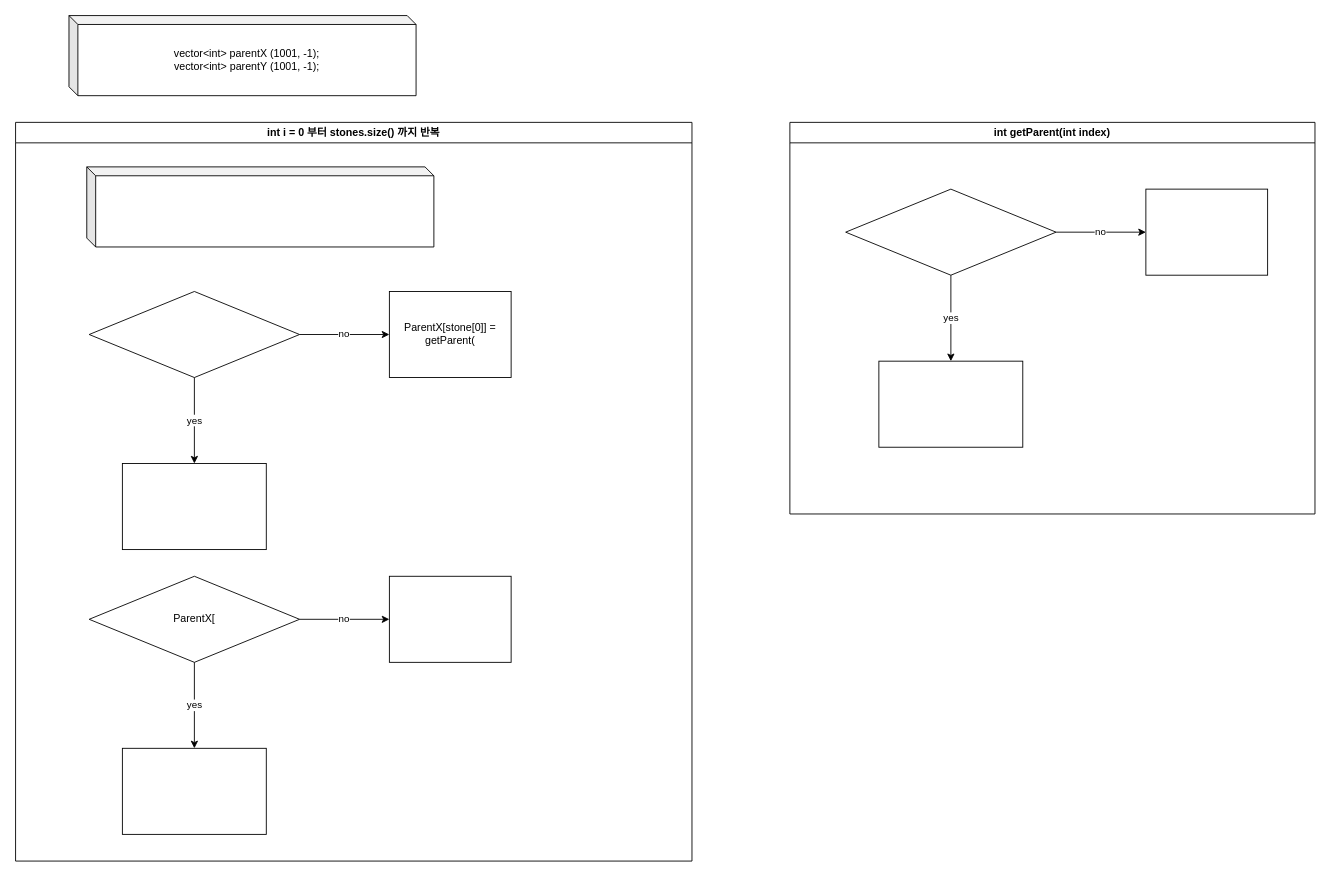
This 1331x877 diagram has some shape labels left out. The centre of each missing label's shape, as x and y in pixels:
"ParentX[stone[0]] = i" goes at [193,506].
"ParentX[stone[0]] 이 -1인가" goes at [194,334].
"vector<int> stone = stones[i] int xAxis = 0 int yAxis = 0" goes at [260,206].
